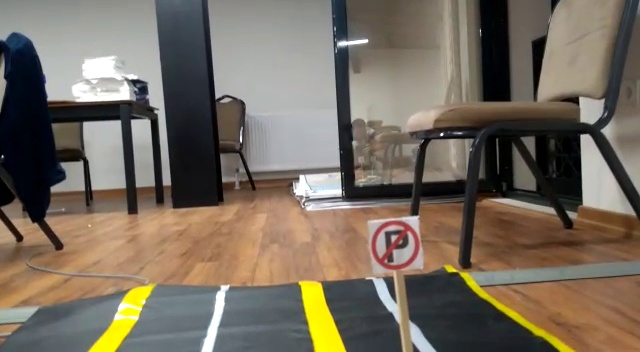park_yapilmaz: (366, 221, 421, 270)
